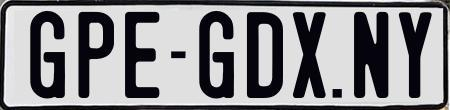D: (246, 9, 282, 101)
E: (123, 12, 160, 104)
G: (30, 11, 70, 103), (199, 9, 235, 103)
N: (351, 11, 387, 97)
P: (78, 10, 114, 97)
X: (291, 10, 328, 99)
Y: (399, 10, 433, 99)
